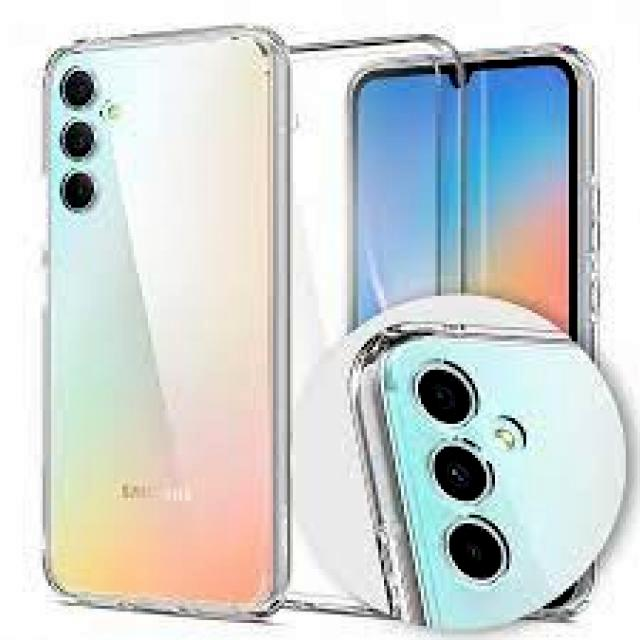lens_back: (407, 352, 485, 434), (435, 514, 515, 580), (424, 438, 498, 504), (57, 114, 100, 164), (56, 169, 101, 212), (58, 66, 99, 110)
phone: (34, 23, 286, 620)
